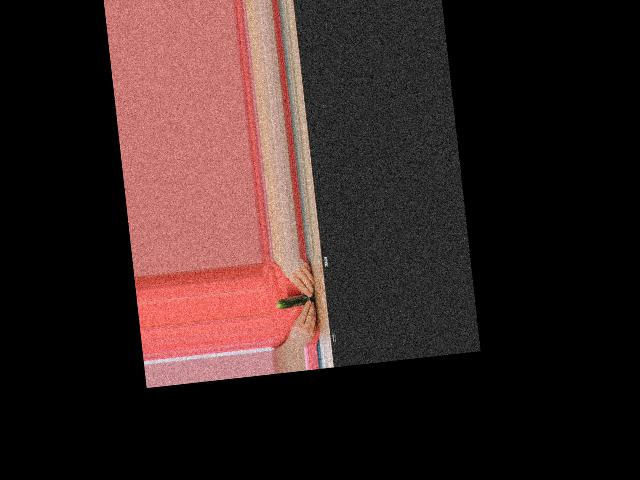cucumber: (276, 293, 315, 310)
